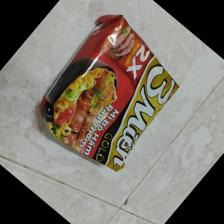3mien: (36, 14, 180, 173)
